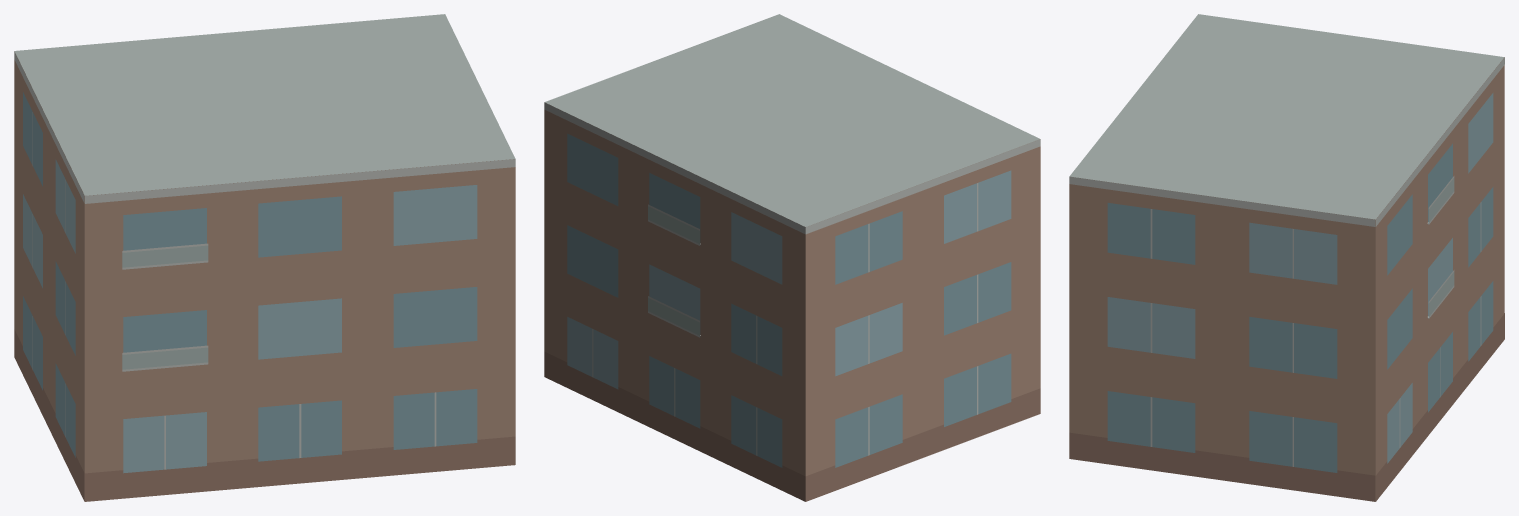
File: survey-upis-32720694.glb
3 renders of one model, left to right at view 1: azimuth 30°, elevation 25°; view 2: azimuth 150°, elevation 25°; view 3: azimuth 270°, elevation 25°, orthographic. The views are drawn at different scales.
Visible parts, largest first — view 1: survey-upis-32720694.tmp; view 2: survey-upis-32720694.tmp; view 3: survey-upis-32720694.tmp.
Part boxes in pixels (x1,y1,x2,y2): survey-upis-32720694.tmp: (14, 14, 515, 501); survey-upis-32720694.tmp: (544, 14, 1040, 501); survey-upis-32720694.tmp: (1069, 14, 1504, 501).
Size of the model in its own units: 14.3 by 9.15 by 12.8.
